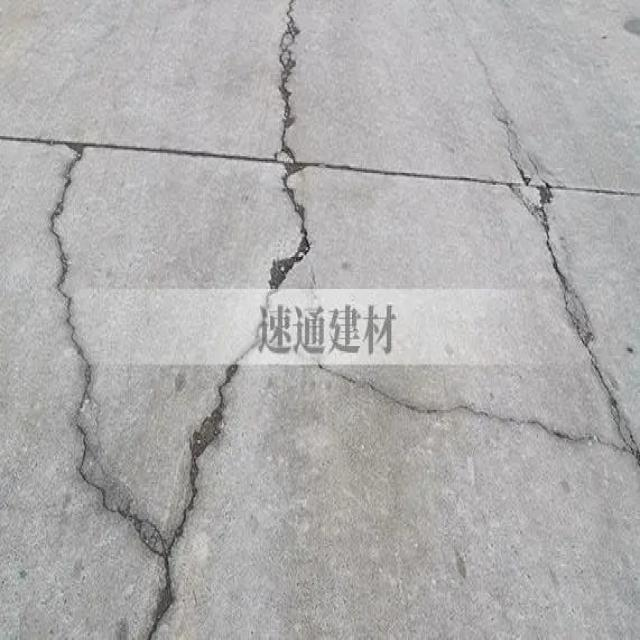Pothole: (27, 128, 227, 633), (496, 155, 639, 477), (266, 10, 318, 306)
